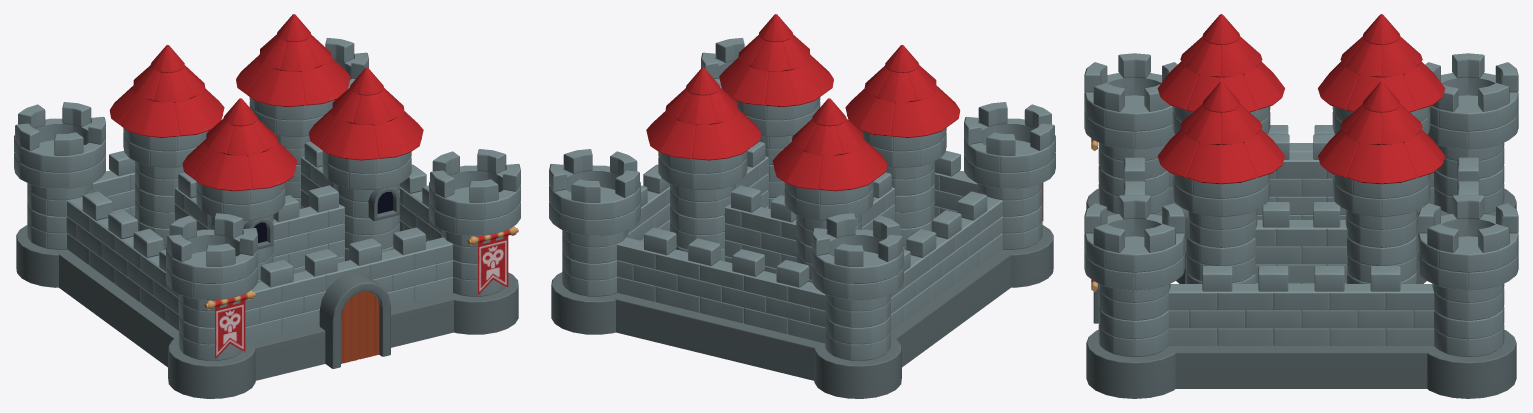
File: Castle.fbx
The picture shows the model from 3 angles, left to right: view 1: azimuth 30°, elevation 25°; view 2: azimuth 150°, elevation 25°; view 3: azimuth 270°, elevation 25°; orthographic projection. The views are drawn at different scales.
Parts seen in each view (by area): view 1: Castle2; view 2: Castle2; view 3: Castle2.
Boxes of the visible parts, box(x1,y1,x2,y2) form: Castle2: box(14, 14, 520, 398); Castle2: box(549, 14, 1055, 398); Castle2: box(1084, 14, 1518, 398).
Size of the model in its own units: 6523 by 4301 by 6512.
